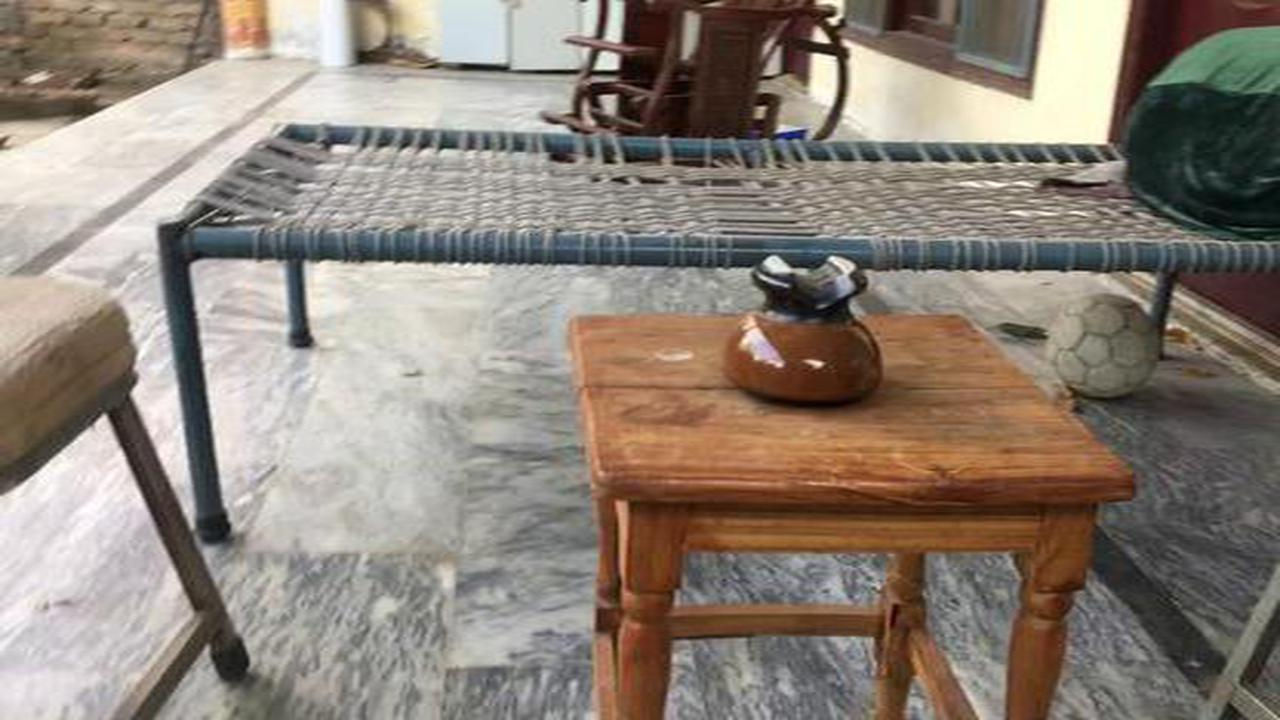insulator_pin: (693, 236, 902, 412)
